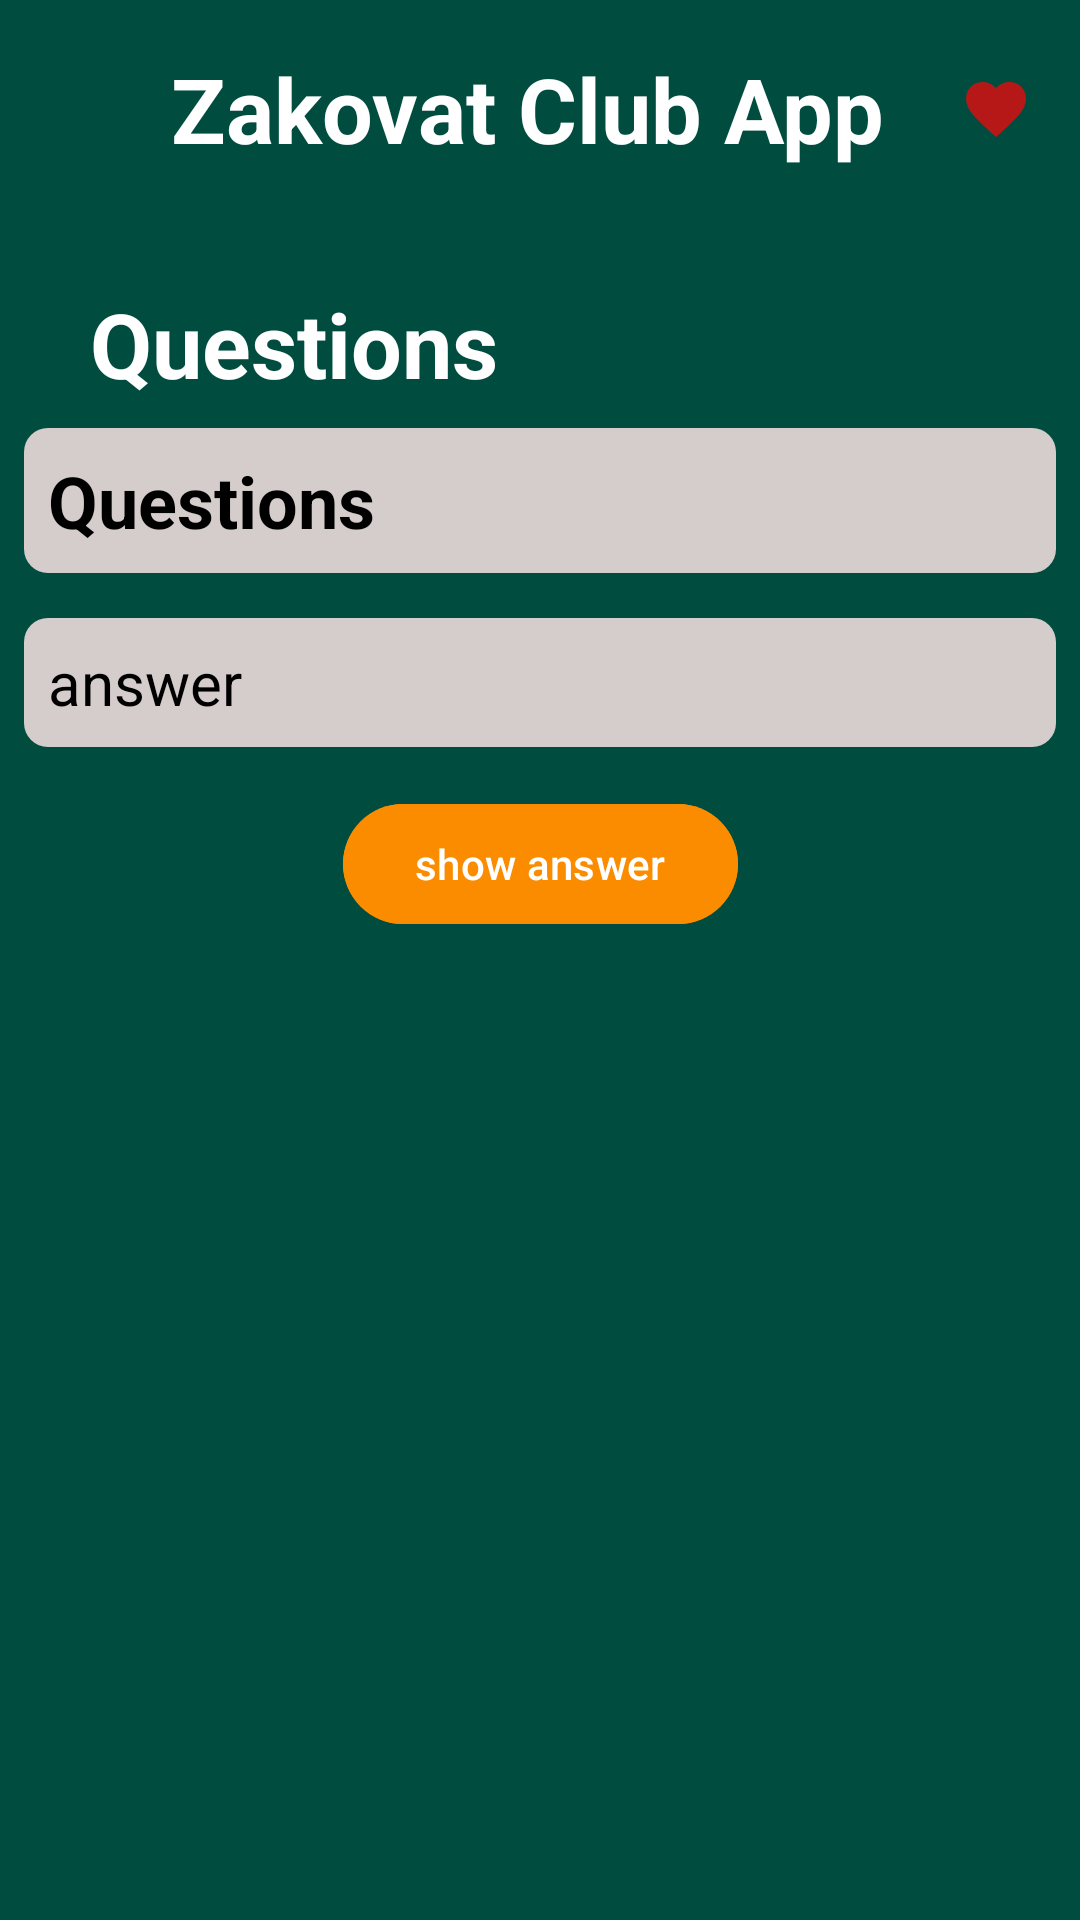

Screen size 1080px×1920px. Icon name, then its center in pixels as (x,y):
favorite: (996,109)
